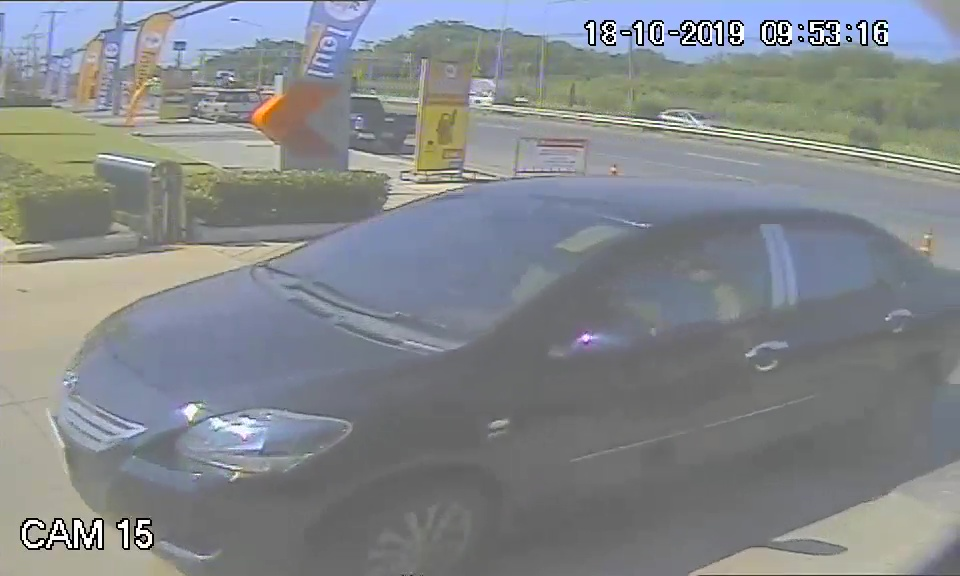sedan: (54, 174, 820, 573)
